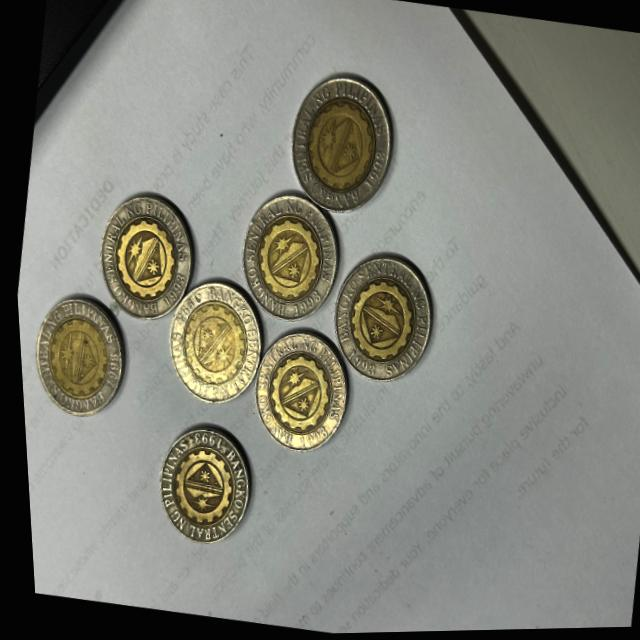10_Old_Back: (271, 69, 402, 223), (323, 250, 440, 384), (88, 185, 203, 316), (155, 275, 264, 405), (233, 200, 340, 322), (244, 334, 346, 457), (25, 298, 129, 414), (150, 430, 251, 548)
